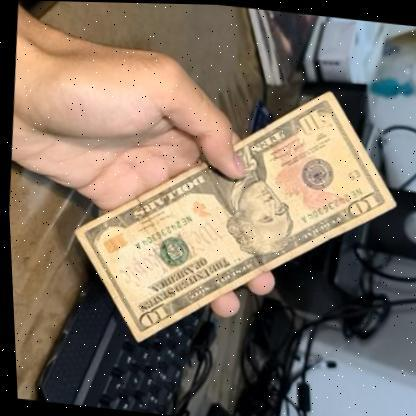ten-front: (51, 63, 410, 371)
